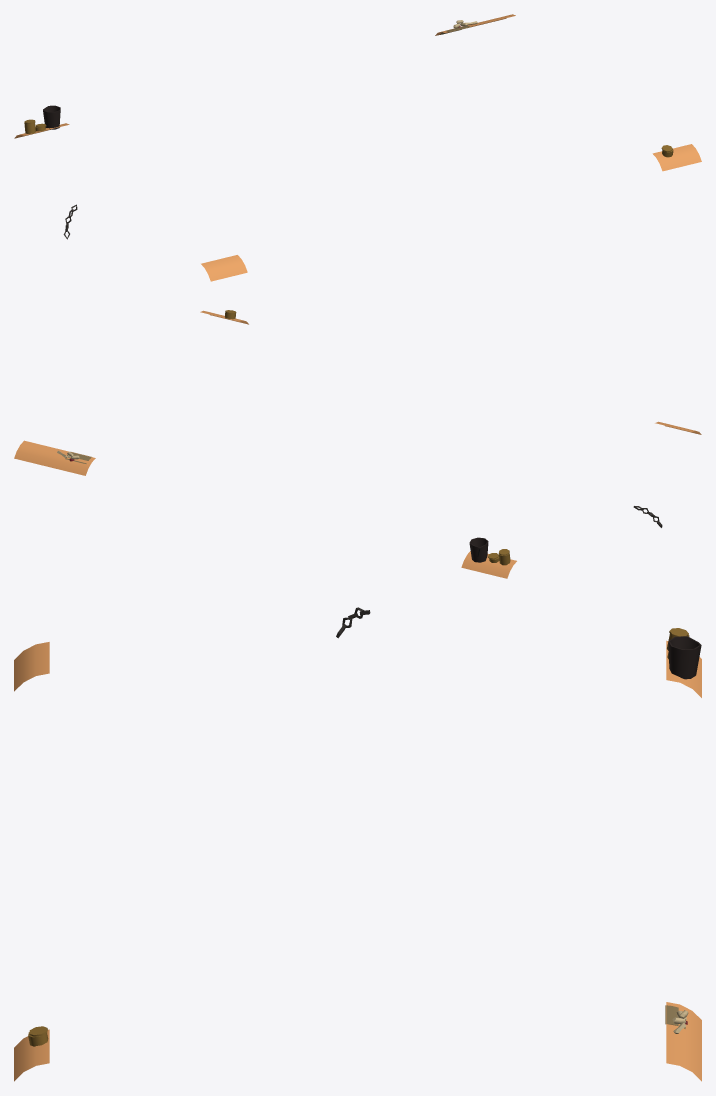
File: dressing_corners.glb
The picture shows the model from 3 angles, top to bottom: view 1: azimuth 30°, elevation 25°; view 2: azimuth 150°, elevation 25°; view 3: azimuth 270°, elevation 25°; orthographic projection. The views are drawn at different scales.
Visible parts, largest first — view 1: dressing_corners; view 2: dressing_corners; view 3: dressing_corners.
Part boxes in pixels (x1=…): dressing_corners: x1=14, y1=14, x2=701, y2=281; dressing_corners: x1=14, y1=310, x2=701, y2=578; dressing_corners: x1=14, y1=607, x2=701, y2=1081.
Bounding box in the file's own units: 2.21 × 0.1493 × 1.37.
